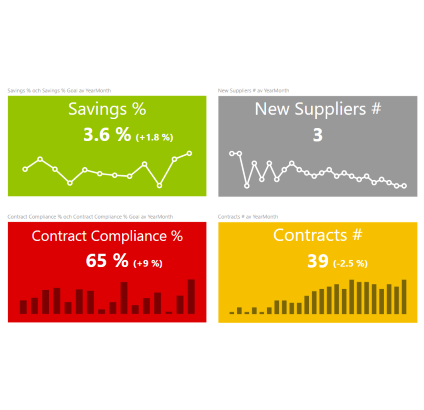

What the dashboard file says about the page in this screenshot:
{"tool":"powerbi","page":{"name":"Page 1","canvas":[1280,720],"ordinal":0},"visuals":[{"type":"KPIStatusWithHistory1446562283967","fields":{"Category":["KPIValues.Month.Variation.Date Hierarchy.Year"],"Targets":["Sum(KPIValues.TargetMonth)"],"Values":["Sum(KPIValues.ActualMonth)"]},"box":[8,8,360,216],"z":1},{"type":"KPIStatusWithHistory1446562283967","fields":{"Category":["KPIValues.Month.Variation.Date Hierarchy.Year"],"Targets":["Sum(KPIValues.TargetMonth)"],"Values":["Sum(KPIValues.ActualMonth)"]},"box":[682,18,360,216],"z":1},{"type":"KPIStatusWithHistory1446562283967","fields":{"Category":["KPIValues.Month.Variation.Date Hierarchy.Year"],"Targets":["Sum(KPIValues.TargetMonth)"],"Values":["Sum(KPIValues.ActualMonth)"]},"box":[8,248,360,216],"z":1},{"type":"KPIStatusWithHistory1446562283967","fields":{"Category":["KPIValues.Month.Variation.Date Hierarchy.Year"],"ValuesTrendTarget":["Sum(KPIValues.TargetMonth)"],"ValuesTrendActual":["Sum(KPIValues.ActualMonth)"],"Values":["Sum(KPIValues.ActualYTD)"],"Targets":["Sum(KPIValues.TargetYTD)"]},"box":[680,264,360,216],"z":1},{"type":"KPIStatusWithHistory1446562283967","fields":{"Category":["KPIValues.Month.Variation.Date Hierarchy.Year"],"Targets":["Sum(KPIValues.TargetMonth)"],"Values":["Sum(KPIValues.ActualMonth)"]},"box":[8,488,360,216],"z":1},{"type":"KPIStatusWithHistory1446562283967","fields":{"Category":["KPIValues.Month.Variation.Date Hierarchy.Year"],"Targets":["Sum(KPIValues.TargetMonth)"],"Values":["Sum(KPIValues.ActualMonth)"]},"box":[680,496,360,216],"z":1},{"type":"textbox","box":[1040,48,240,88],"z":3},{"type":"textbox","box":[386,58,304,96],"z":3},{"type":"textbox","box":[1040,264,240,88],"z":3},{"type":"textbox","box":[376,288,304,96],"z":3},{"type":"textbox","box":[376,488,304,96],"z":3},{"type":"textbox","box":[1040,512,240,88],"z":3}]}

Visuals, with their boxes on the page's 1280x720 design canvas (x1, y1, x2, y2). These are canvas units, not pixel positions in the 424x410 screenshot, which may show the page scaled, cropped or inside an application window:
KPIStatusWithHistory1446562283967 - KPIValues.Month.Variation.Date Hierarchy.Year x Sum(KPIValues.TargetMonth): l=8, t=8, r=368, b=224
KPIStatusWithHistory1446562283967 - KPIValues.Month.Variation.Date Hierarchy.Year x Sum(KPIValues.TargetMonth): l=682, t=18, r=1042, b=234
KPIStatusWithHistory1446562283967 - KPIValues.Month.Variation.Date Hierarchy.Year x Sum(KPIValues.TargetMonth): l=8, t=248, r=368, b=464
KPIStatusWithHistory1446562283967 - KPIValues.Month.Variation.Date Hierarchy.Year x Sum(KPIValues.TargetMonth): l=680, t=264, r=1040, b=480
KPIStatusWithHistory1446562283967 - KPIValues.Month.Variation.Date Hierarchy.Year x Sum(KPIValues.TargetMonth): l=8, t=488, r=368, b=704
KPIStatusWithHistory1446562283967 - KPIValues.Month.Variation.Date Hierarchy.Year x Sum(KPIValues.TargetMonth): l=680, t=496, r=1040, b=712
textbox: l=1040, t=48, r=1280, b=136
textbox: l=386, t=58, r=690, b=154
textbox: l=1040, t=264, r=1280, b=352
textbox: l=376, t=288, r=680, b=384
textbox: l=376, t=488, r=680, b=584
textbox: l=1040, t=512, r=1280, b=600
